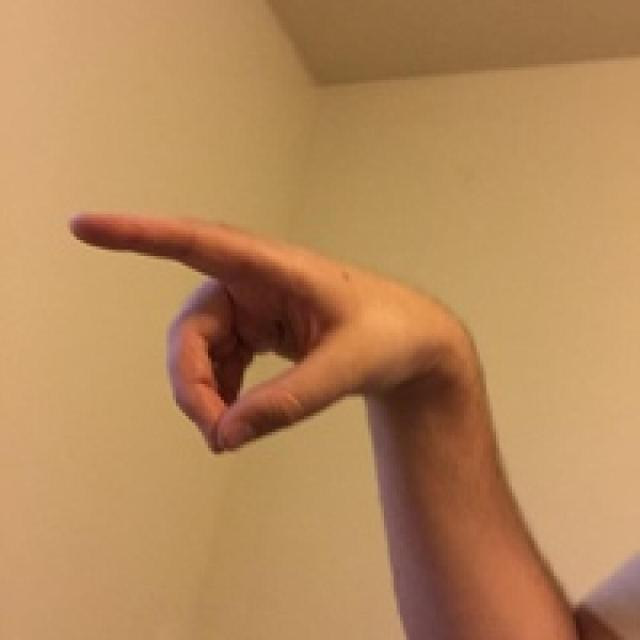P: (44, 164, 542, 552)
